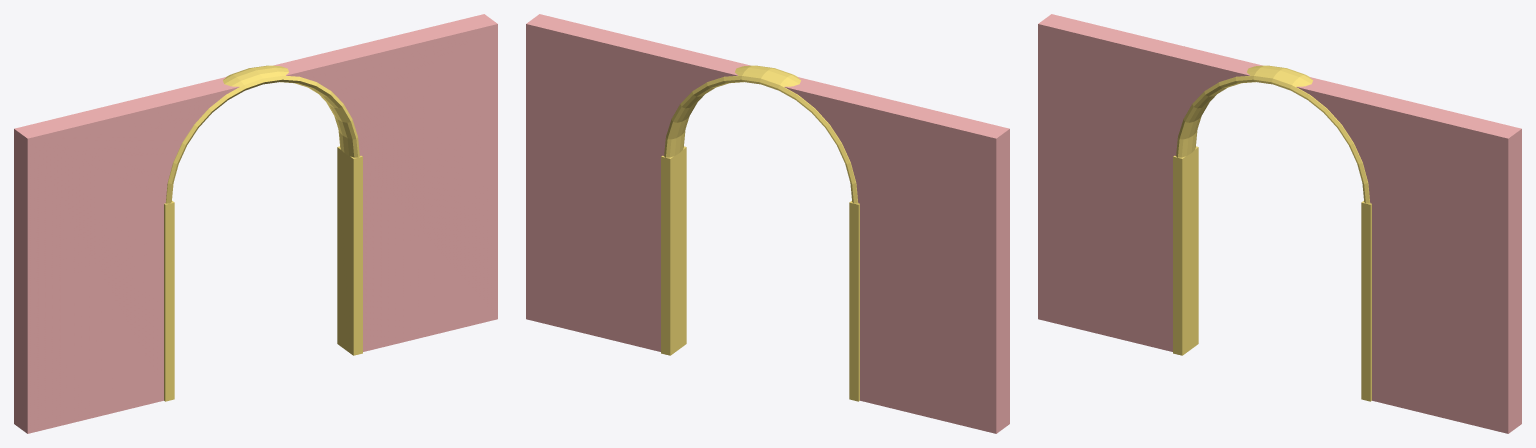
The model's file is arch_module.glb.
The picture shows the model from 3 angles, left to right: view 1: azimuth 30°, elevation 25°; view 2: azimuth 150°, elevation 25°; view 3: azimuth 330°, elevation 25°; orthographic projection.
Visible parts, largest first — view 1: ArchBlock; view 2: ArchBlock; view 3: ArchBlock.
Part boxes in pixels (box(x1,y1,x2,y2)): ArchBlock: box(14, 14, 497, 433); ArchBlock: box(526, 14, 1009, 433); ArchBlock: box(1038, 14, 1521, 433).
Bounding box in the file's own units: 10 × 6.12 × 0.6.
